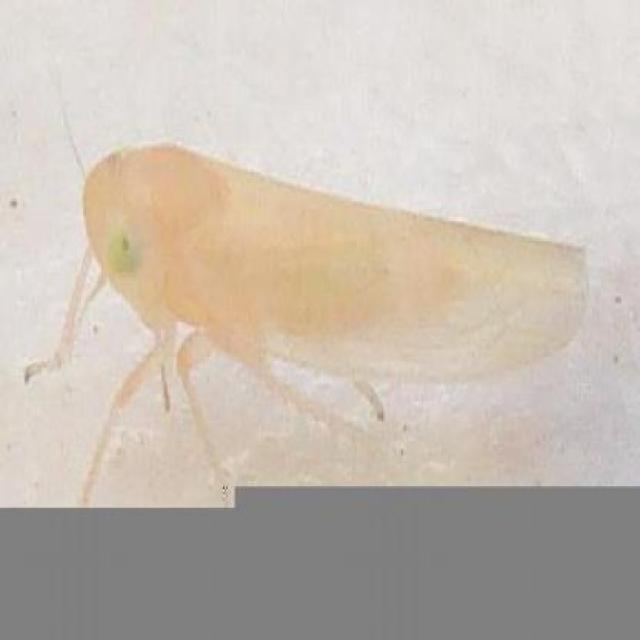green-leafhopper: (95, 147, 563, 416)
